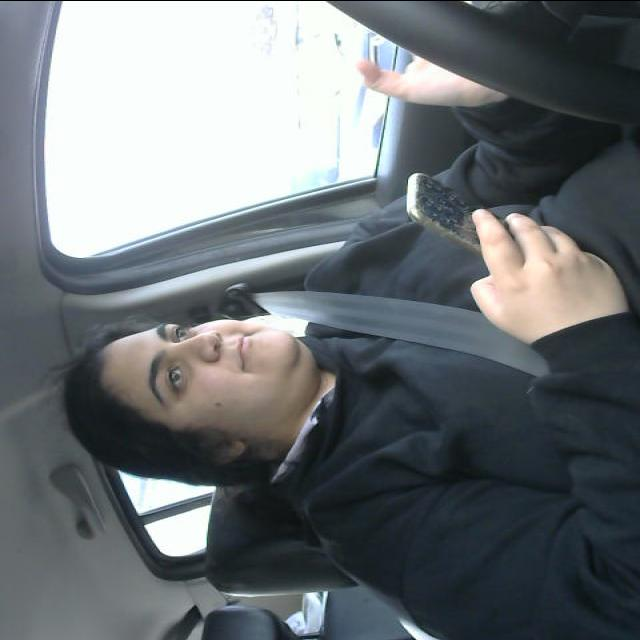mobile use: (400, 170, 504, 253)
